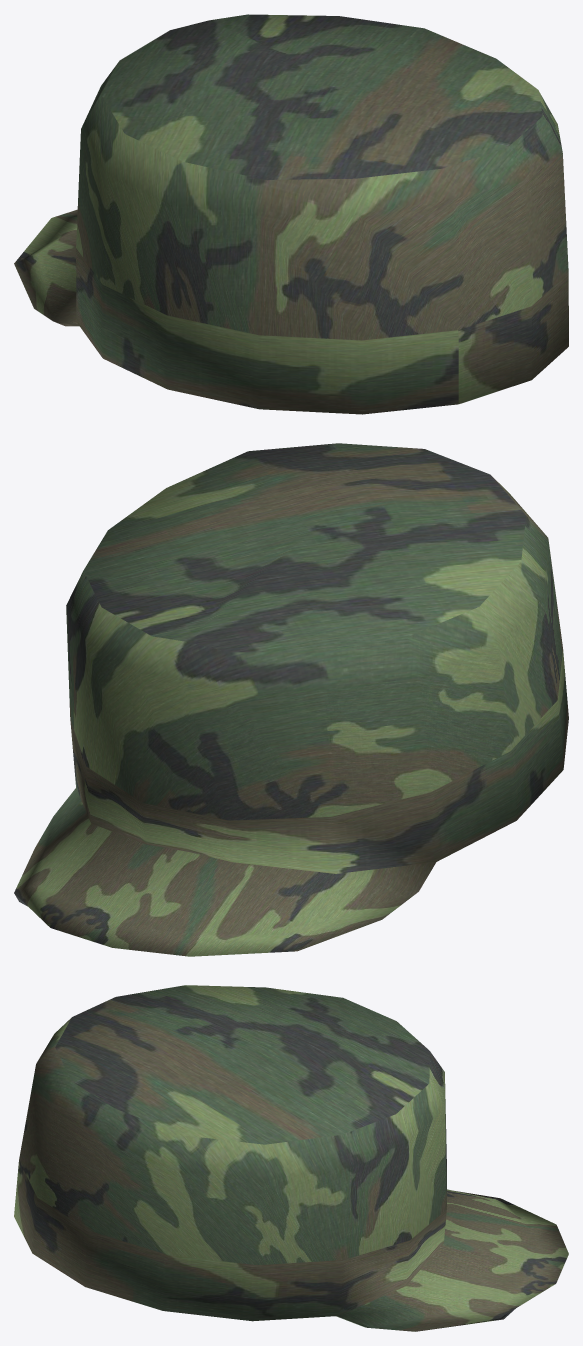
File: M_PatrolCapReversed.fbx
3 renders of one model, top to bottom at view 1: azimuth 30°, elevation 25°; view 2: azimuth 150°, elevation 25°; view 3: azimuth 270°, elevation 25°, orthographic. The views are drawn at different scales.
Visible parts, largest first — view 1: Circle; view 2: Circle; view 3: Circle.
Boxes of the visible parts, x1,y1,x2,y2 form: Circle: [14, 14, 568, 414]; Circle: [14, 443, 568, 956]; Circle: [14, 985, 568, 1331].
Size of the model in its own units: 0.0906 by 0.1386 by 0.1993.
